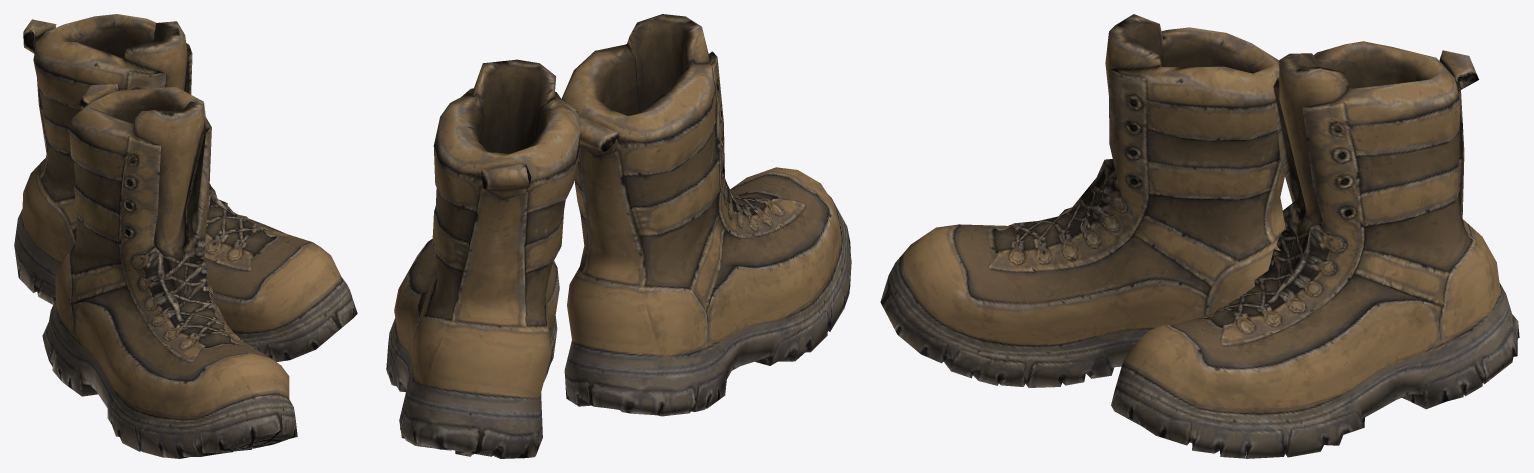
Rendered from Boots1.fbx.
The picture shows the model from 3 angles, left to right: view 1: azimuth 30°, elevation 25°; view 2: azimuth 150°, elevation 25°; view 3: azimuth 270°, elevation 25°; orthographic projection. The views are drawn at different scales.
Visible parts, largest first — view 1: polySurface21; view 2: polySurface21; view 3: polySurface21.
Part boxes in pixels (x1,y1,x2,y2): polySurface21: [14, 14, 357, 458]; polySurface21: [386, 14, 851, 458]; polySurface21: [880, 14, 1519, 458].
Bounding box in the file's own units: 0.3817 × 0.3977 × 0.655.
